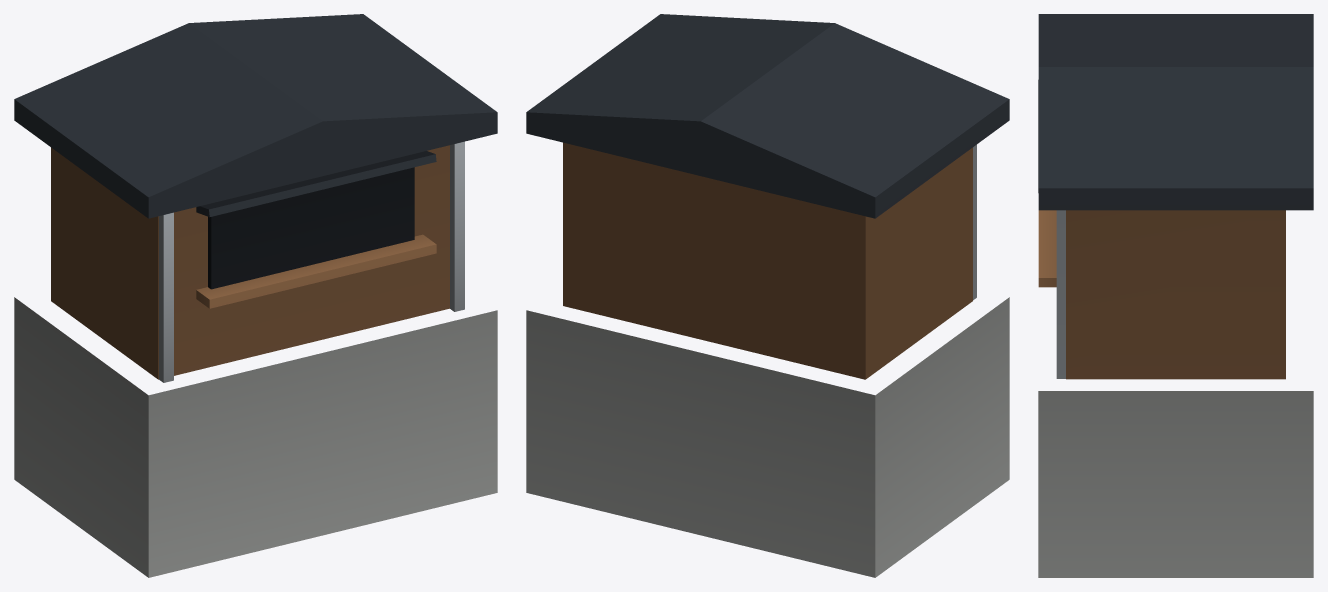
File: jetty-kiosk.glb
3 renders of one model, left to right at view 1: azimuth 30°, elevation 25°; view 2: azimuth 150°, elevation 25°; view 3: azimuth 270°, elevation 25°, orthographic. The views are drawn at different scales.
Parts seen in each view (by area): view 1: jetty-kiosk; view 2: jetty-kiosk; view 3: jetty-kiosk.
Boxes of the visible parts, x1,y1,x2,y2 form: jetty-kiosk: (14, 14, 497, 577); jetty-kiosk: (526, 14, 1009, 577); jetty-kiosk: (1038, 14, 1313, 577).
Bounding box in the file's own units: 6 × 6.8 × 4.
